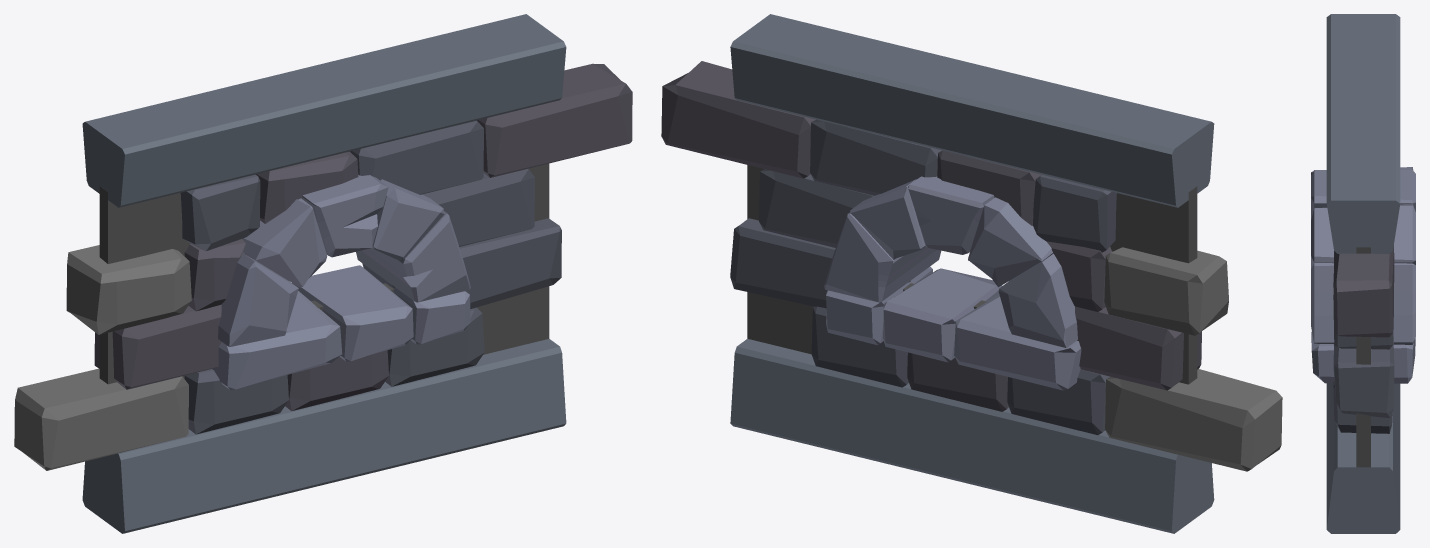
File: Brick_Wall_Window.fbx
The picture shows the model from 3 angles, left to right: view 1: azimuth 30°, elevation 25°; view 2: azimuth 150°, elevation 25°; view 3: azimuth 270°, elevation 25°; orthographic projection. The views are drawn at different scales.
Visible parts, largest first — view 1: Muro_Ventana_Ladrillo; view 2: Muro_Ventana_Ladrillo; view 3: Muro_Ventana_Ladrillo.
Boxes of the visible parts, bbox=[...] form: Muro_Ventana_Ladrillo: bbox=[14, 14, 632, 533]; Muro_Ventana_Ladrillo: bbox=[661, 14, 1282, 533]; Muro_Ventana_Ladrillo: bbox=[1311, 14, 1415, 533].
Bounding box in the file's own units: 805 × 500 × 143.
